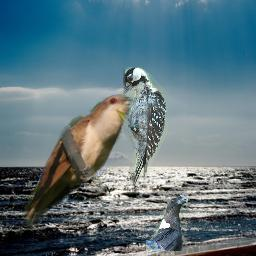Crow: (146, 195, 188, 251)
Cuckoo: (20, 94, 137, 231)
Woodpecker: (123, 67, 168, 186)
